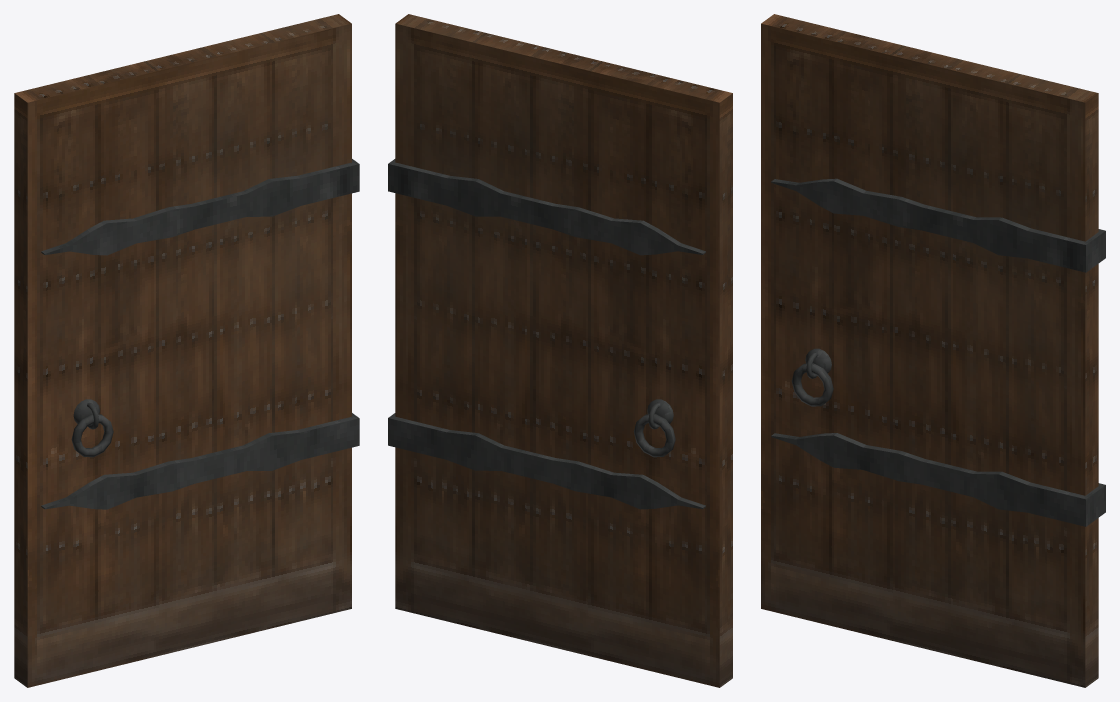
Rendered from door.gltf.
3 views of the same model, side by side, from view 1: azimuth 30°, elevation 25°; view 2: azimuth 150°, elevation 25°; view 3: azimuth 330°, elevation 25° (orthographic).
Visible parts, largest first — view 1: Door; view 2: Door; view 3: Door.
Part boxes in pixels (box(x1,y1,x2,y2)): Door: box(14, 14, 359, 687); Door: box(388, 14, 732, 687); Door: box(761, 14, 1105, 687).
Size of the model in its own units: 1.35 by 2.3 by 0.261.
Materials: 1 (1 with a texture image).
